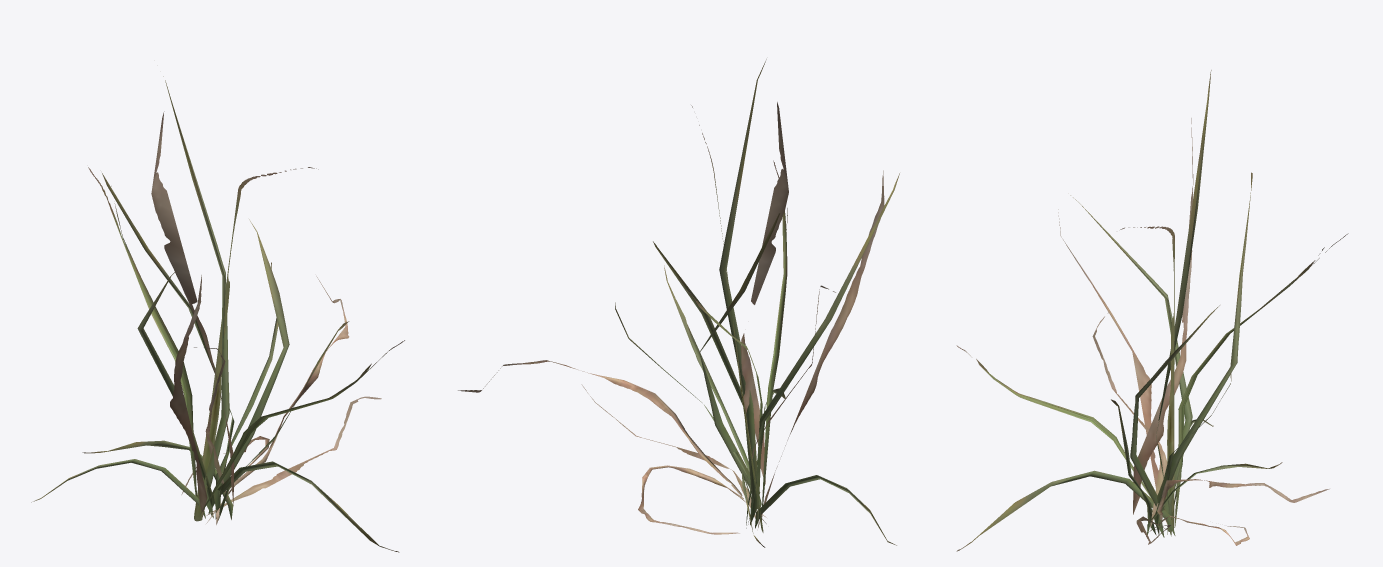
3 renders of one model, left to right at view 1: azimuth 30°, elevation 25°; view 2: azimuth 150°, elevation 25°; view 3: azimuth 270°, elevation 25°, orthographic. The views are drawn at different scales.
Parts seen in each view (by area): view 1: grass_medium_02__a_lod1; view 2: grass_medium_02__a_lod1; view 3: grass_medium_02__a_lod1.
Part boxes in pixels (bbox=[...]): grass_medium_02__a_lod1: bbox=[31, 76, 404, 552]; grass_medium_02__a_lod1: bbox=[458, 59, 899, 547]; grass_medium_02__a_lod1: bbox=[956, 70, 1348, 551].
Bounding box in the file's own units: 0.1217 × 0.162 × 0.1253.
Materials: 1 (1 with a texture image).
